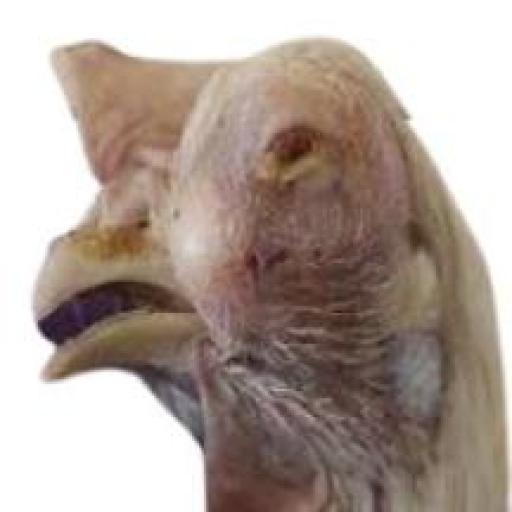disease: (235, 96, 354, 229)
